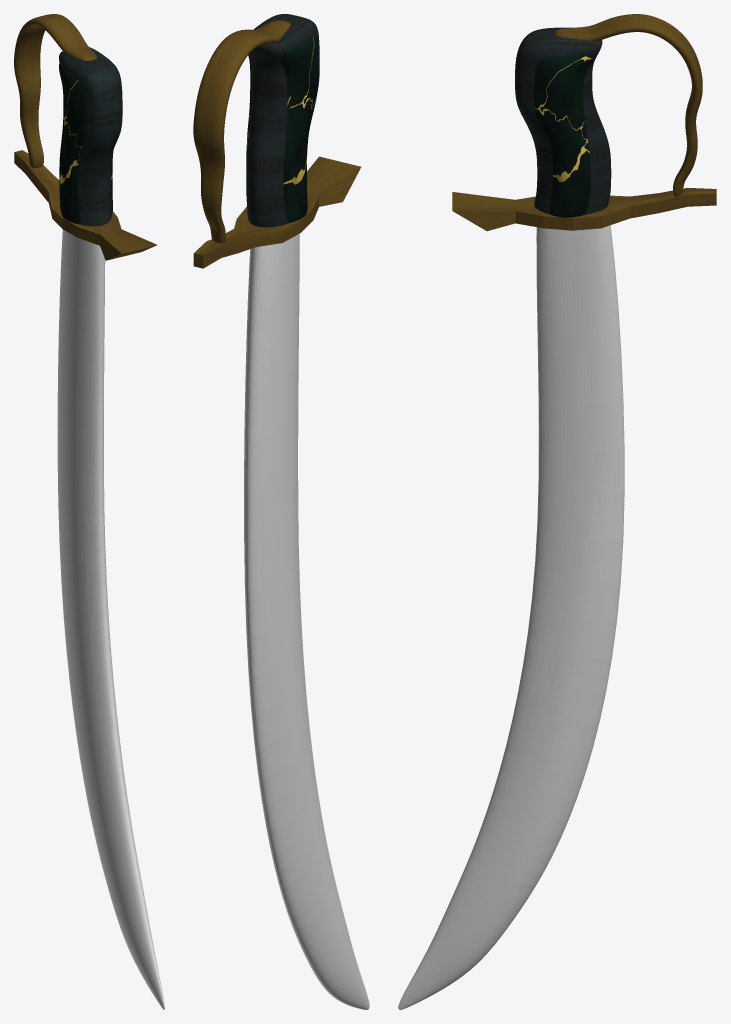
File: szabla.fbx
3 renders of one model, left to right at view 1: azimuth 30°, elevation 25°; view 2: azimuth 150°, elevation 25°; view 3: azimuth 270°, elevation 25°, orthographic. The views are drawn at different scales.
Visible parts, largest first — view 1: Cube, Cube.004, Cube.003, Cube.002, Cube.001; view 2: Cube, Cube.004, Cube.003, Cube.001, Cube.002; view 3: Cube, Cube.001, Cube.004, Cube.002, Cube.003.
Boxes of the visible parts, left/top/right/bottom form: Cube: left=57, top=229, right=164, bottom=1009; Cube.004: left=59, top=47, right=122, bottom=226; Cube.003: left=14, top=14, right=97, bottom=167; Cube.002: left=14, top=150, right=156, bottom=260; Cube.001: left=59, top=63, right=113, bottom=223; Cube: left=244, top=233, right=369, bottom=1009; Cube.004: left=246, top=14, right=319, bottom=227; Cube.003: left=193, top=20, right=290, bottom=243; Cube.001: left=246, top=37, right=318, bottom=222; Cube.002: left=193, top=156, right=361, bottom=268; Cube: left=398, top=225, right=624, bottom=1009; Cube.001: left=534, top=54, right=593, bottom=217; Cube.004: left=515, top=27, right=611, bottom=215; Cube.002: left=452, top=188, right=716, bottom=231; Cube.003: left=555, top=14, right=702, bottom=196.
Size of the model in its own units: 38.53 by 704 by 205.
